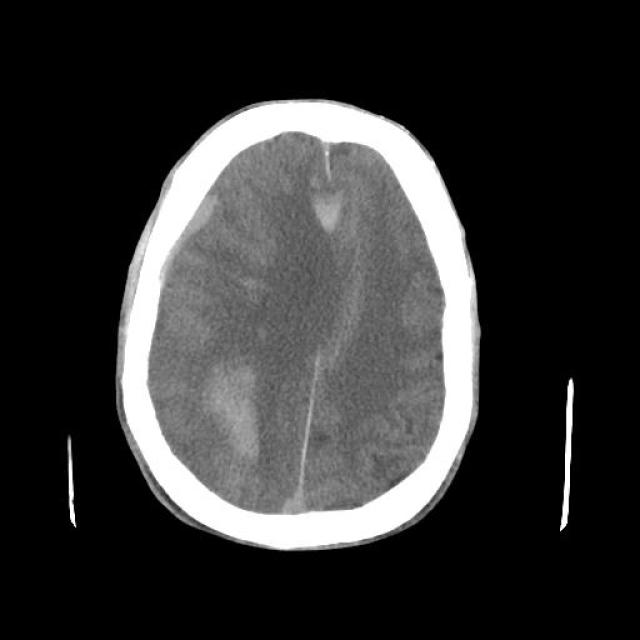Intraparenchymal: (186, 342, 284, 458), (275, 174, 373, 248)
Subdural: (152, 173, 222, 285)
